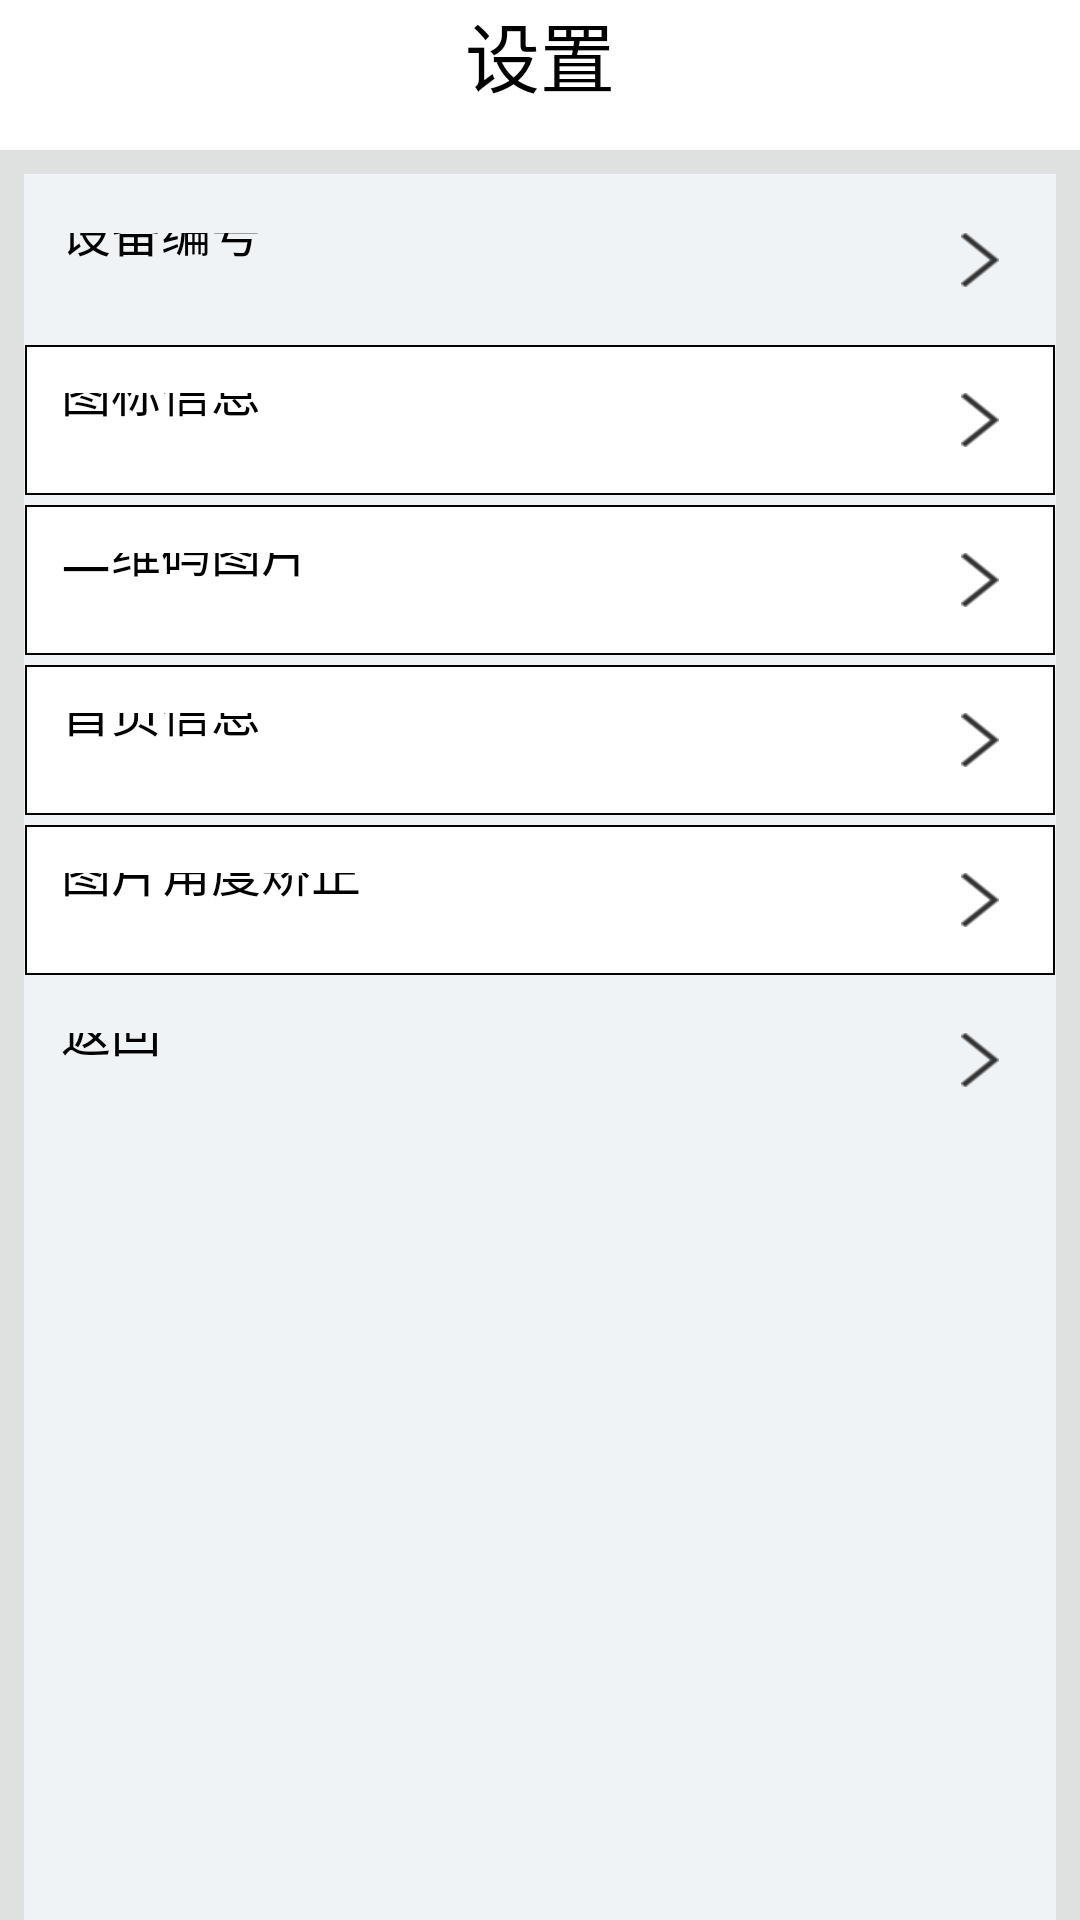

Screen size 1080px x 1920px. Icon name, then its center in pixels as point (x, y):
select: point (980, 260), point (980, 420), point (980, 580), point (980, 740), point (980, 900), point (980, 1060)
